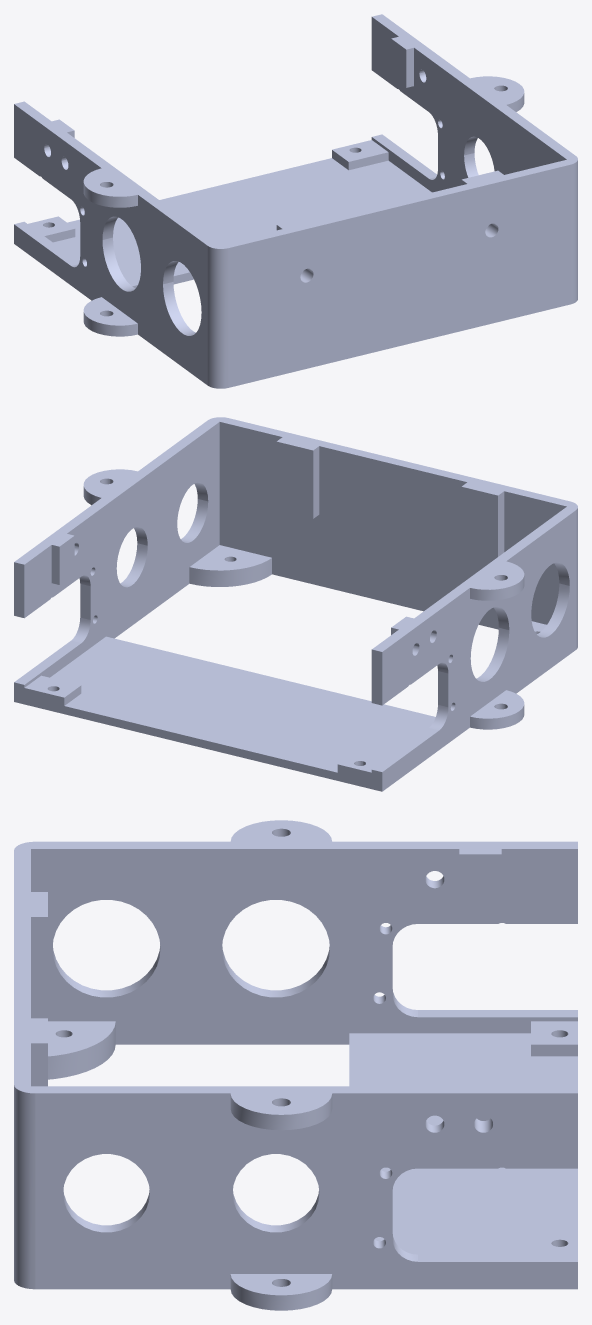
The model's file is CIM_Main.glb.
3 renders of one model, top to bottom at view 1: azimuth 30°, elevation 25°; view 2: azimuth 150°, elevation 25°; view 3: azimuth 270°, elevation 25°, orthographic. The views are drawn at different scales.
Visible parts, largest first — view 1: empty_2; view 2: empty_2; view 3: empty_2.
Part boxes in pixels (x1,y1,x2,y2): empty_2: (14,14,577,388); empty_2: (14,417,577,791); empty_2: (14,820,577,1310).
Bounding box in the file's own units: 165 × 51 × 133.
